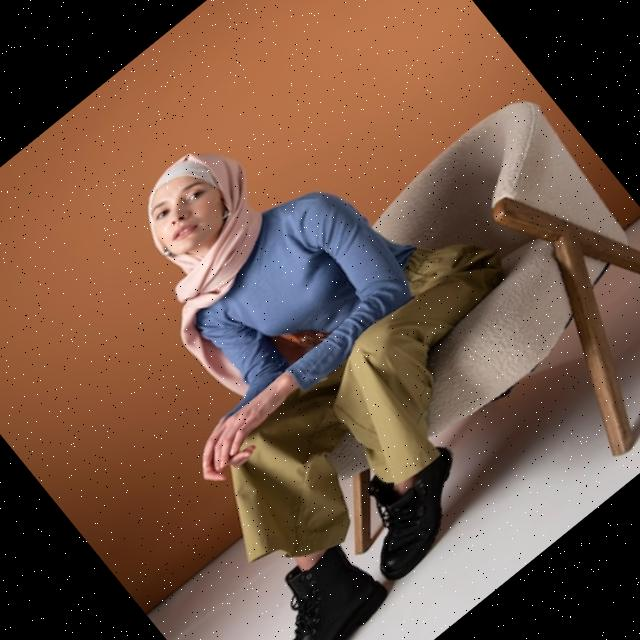Person: (0, 44, 634, 640)
